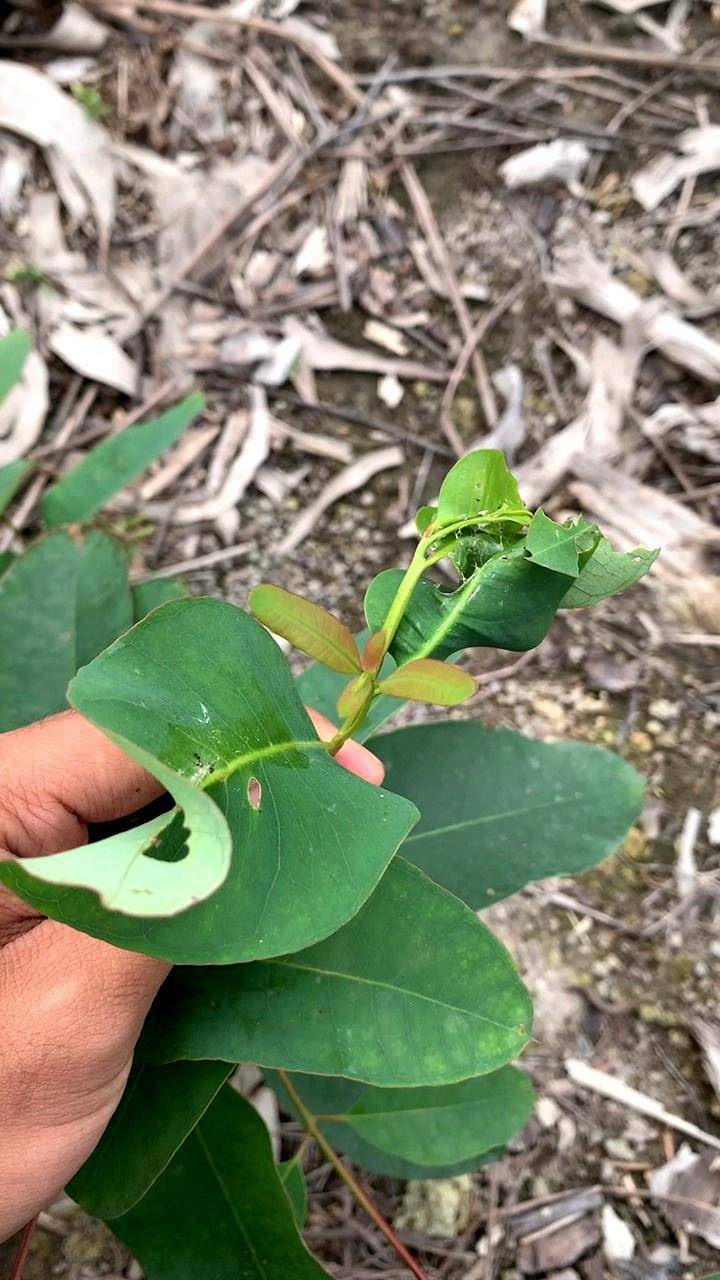Leaf Roller - Leaf: (43, 643, 379, 949), (391, 471, 643, 649)
